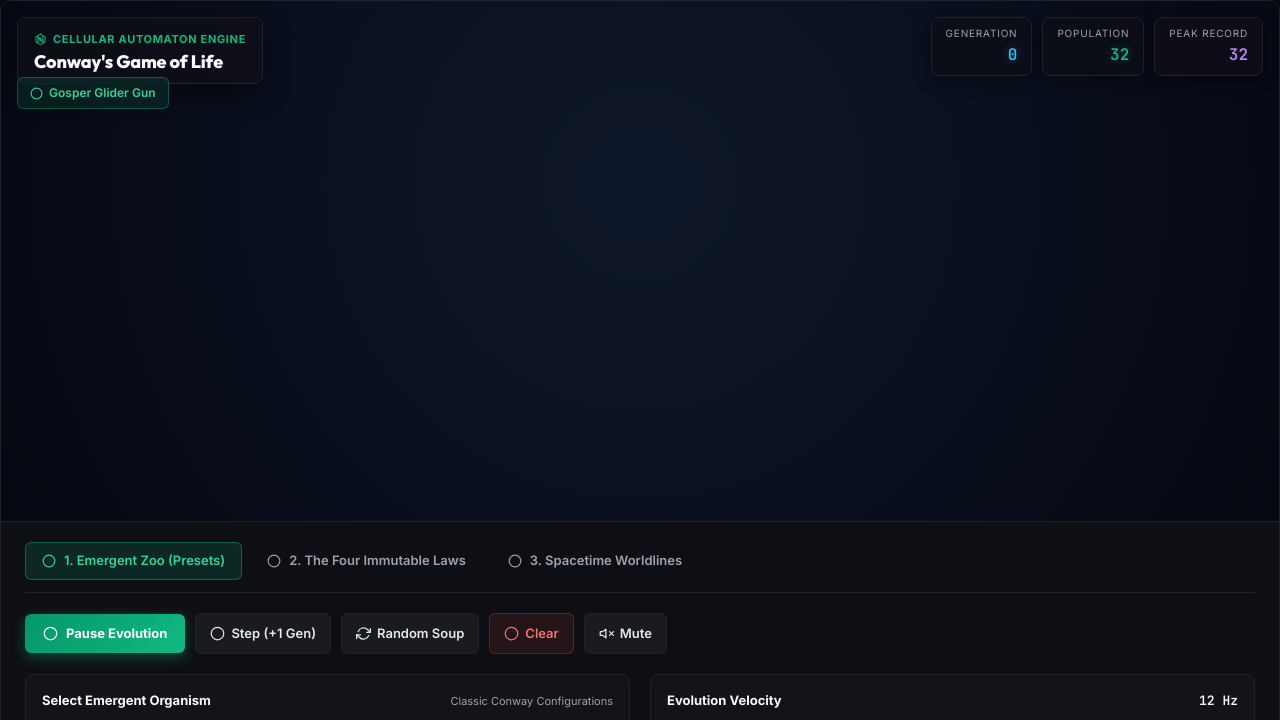
Test case: ConwaysGameOfLife3DLab › allows toggling play and pause of the evolution simulation
Click the button with aria-label "Pause Simulation" at (105, 633), box [25,614,185,653]
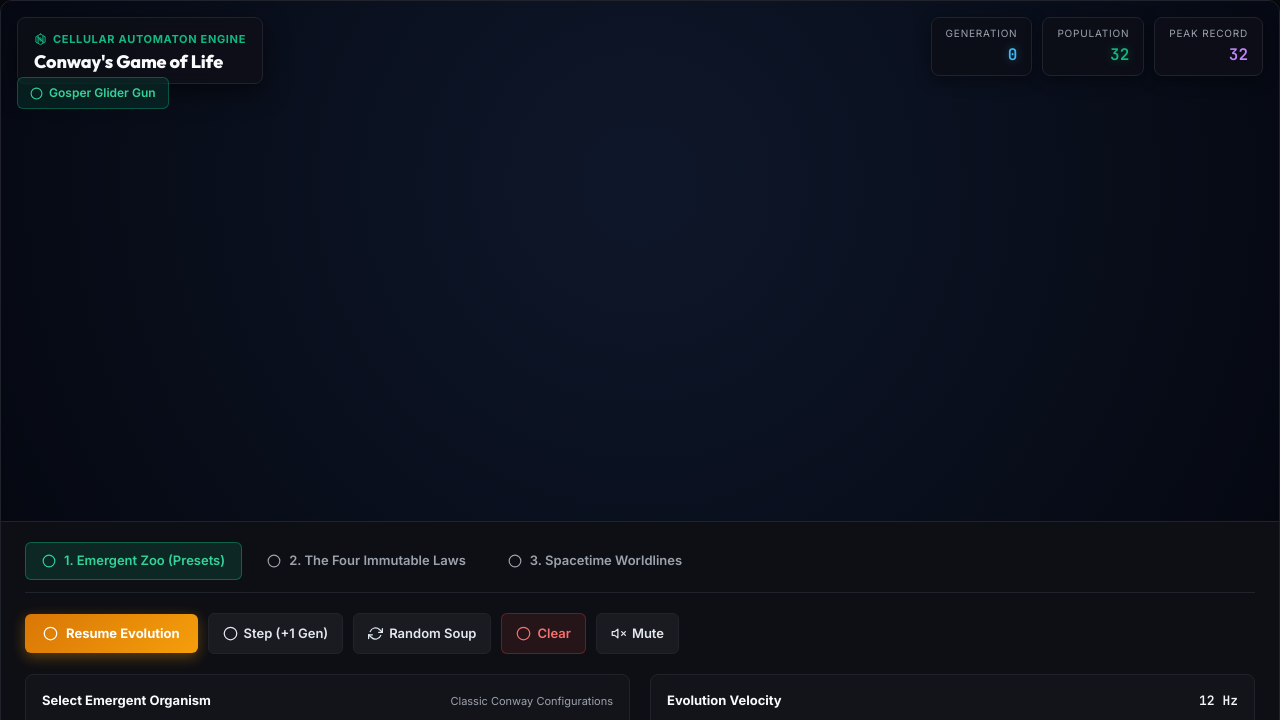
expect the button with aria-label "Resume Simulation" is shown: met
Click the button with aria-label "Resume Simulation" at (111, 633), box [25,614,198,653]
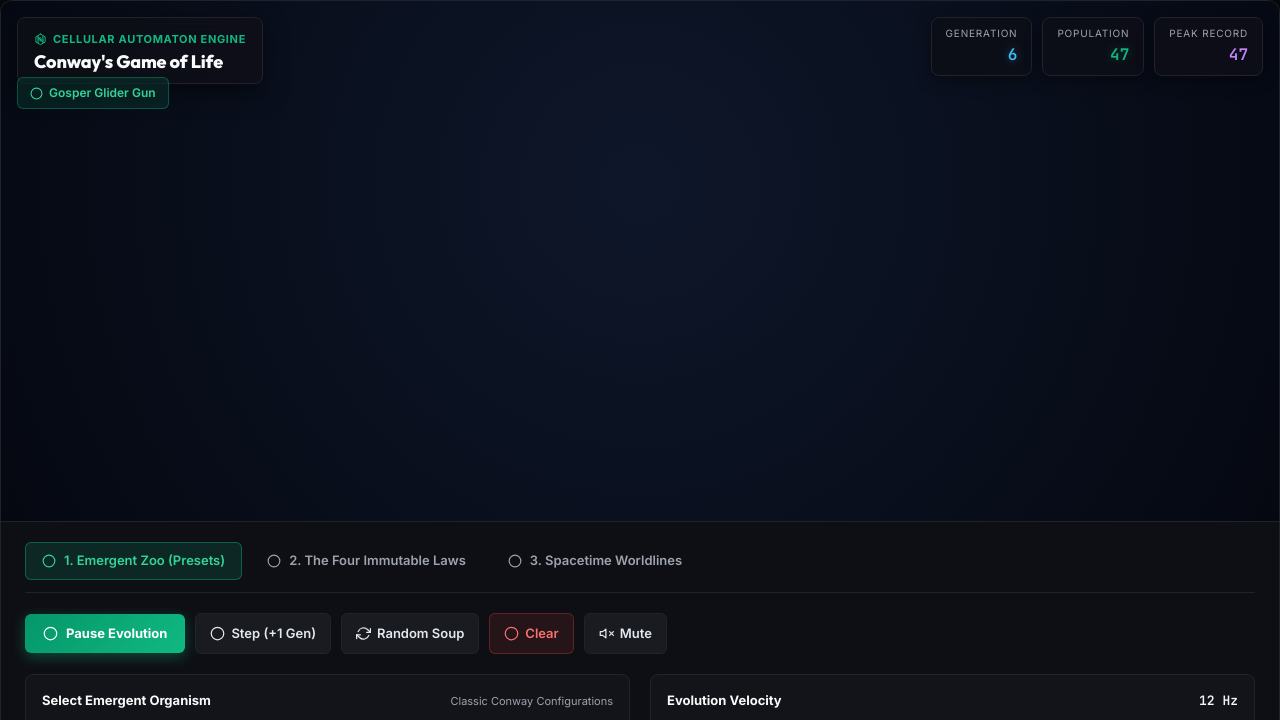
expect the button with aria-label "Pause Simulation" is shown: met, box [25,614,185,653]
